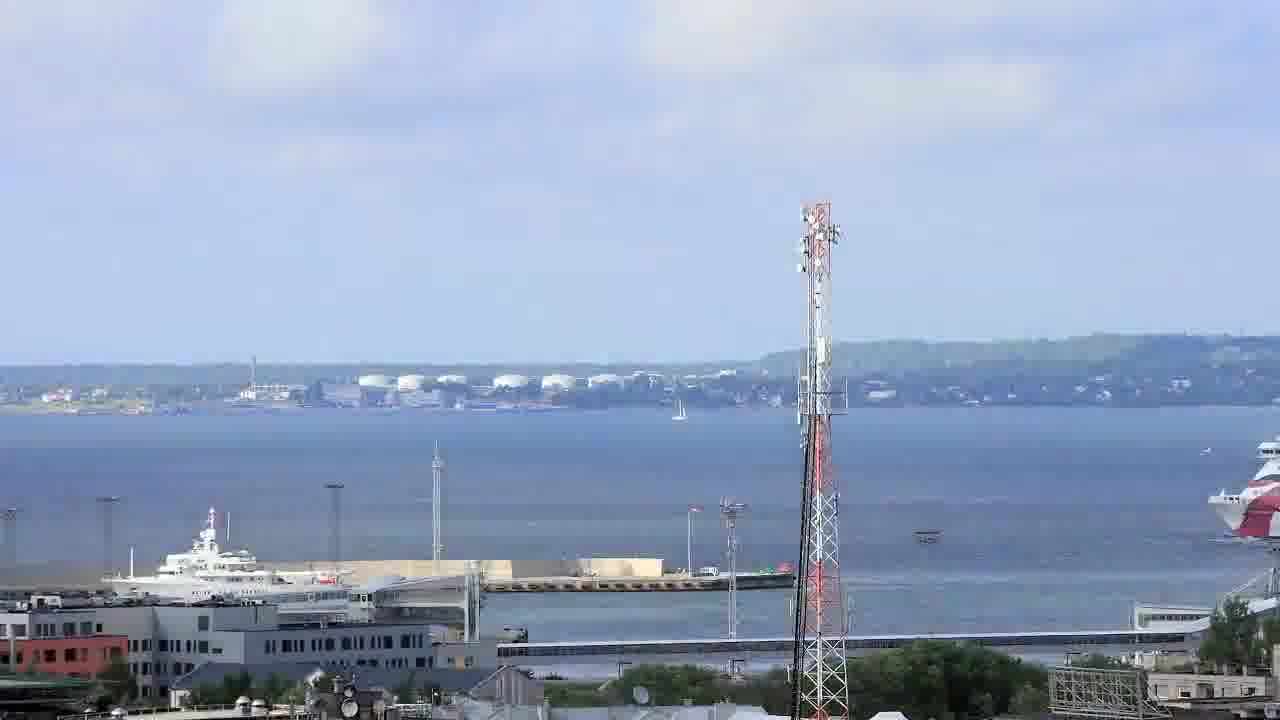type-3: (96, 508, 381, 605), (1185, 414, 1280, 554)
